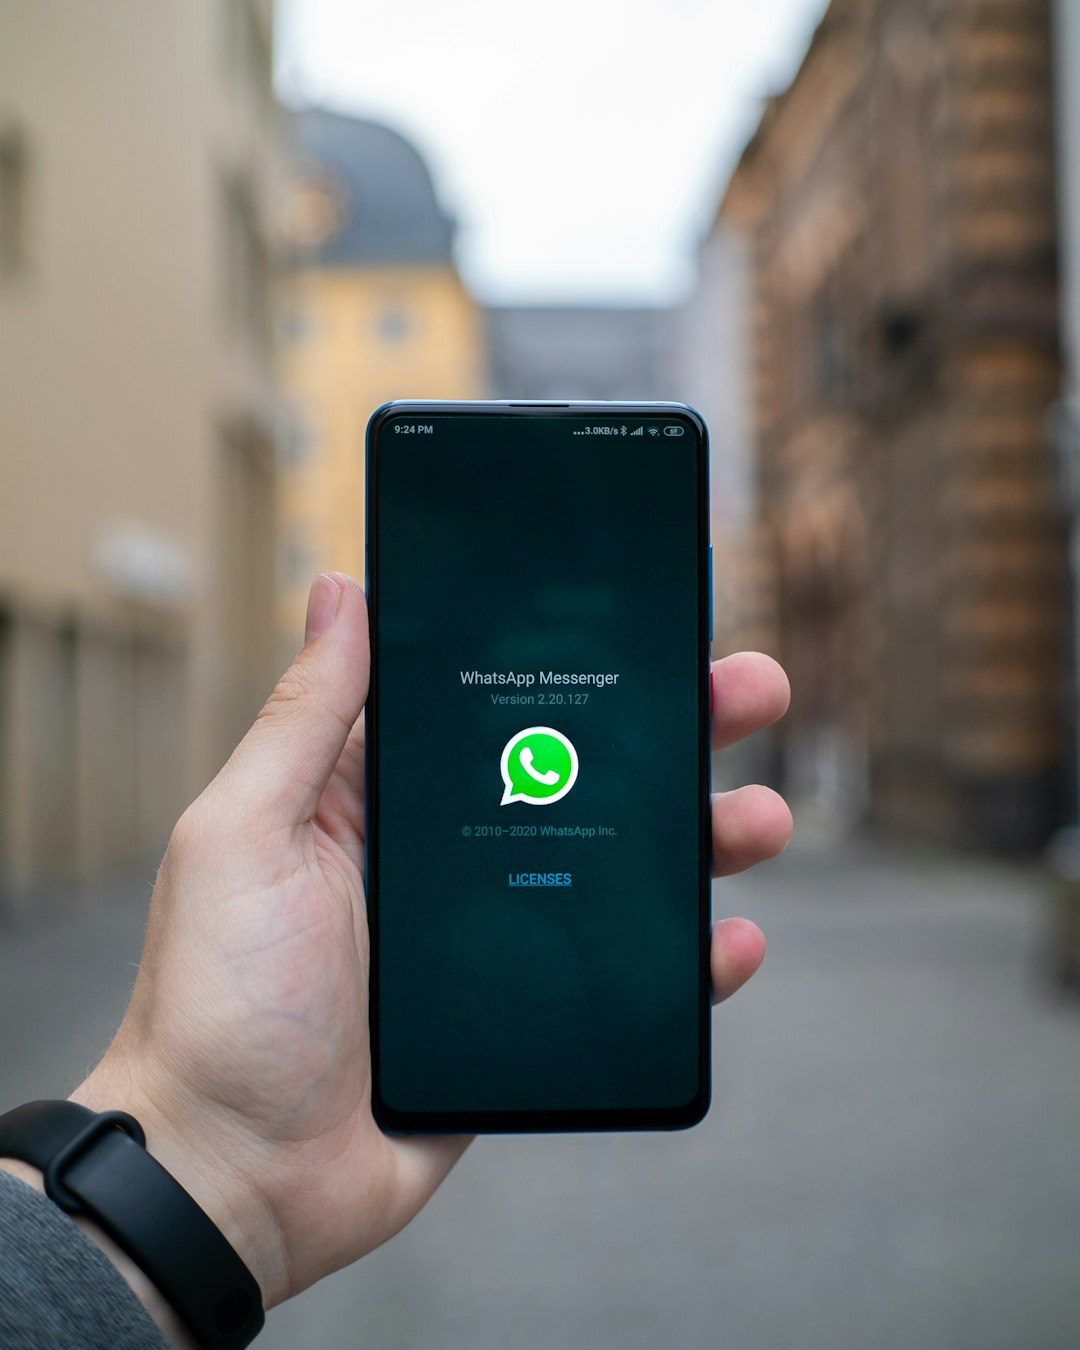phone: (355, 403, 719, 1134)
